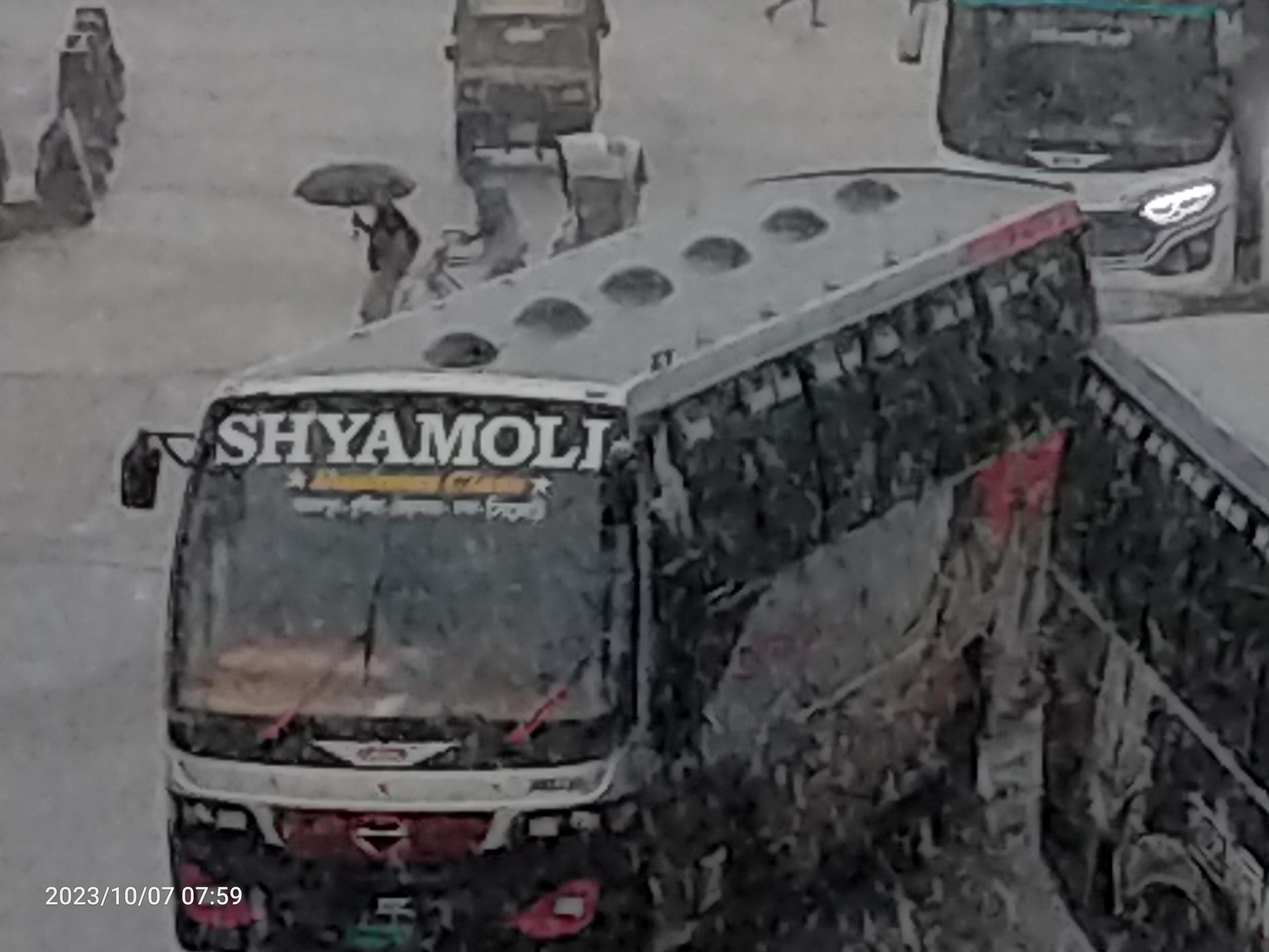Bus: (95, 143, 1110, 952), (1047, 299, 1269, 952), (878, 0, 1255, 296)
Car: (415, 127, 653, 270), (412, 0, 618, 152)
